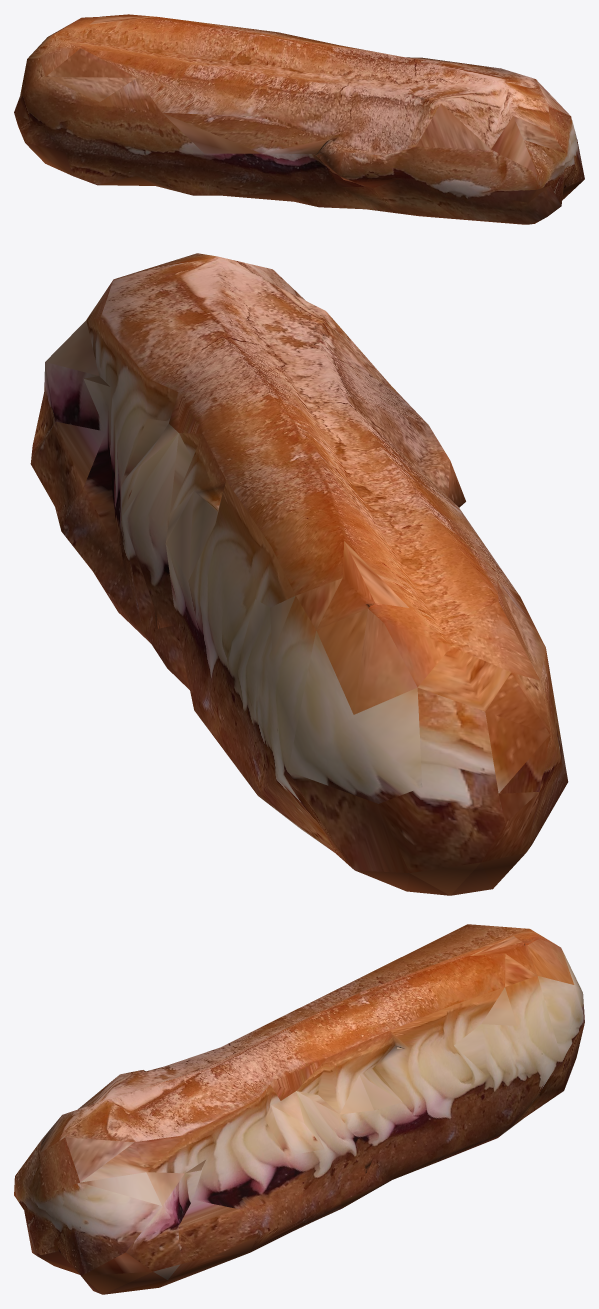
File: eclaire_420.obj
3 renders of one model, top to bottom at view 1: azimuth 30°, elevation 25°; view 2: azimuth 150°, elevation 25°; view 3: azimuth 270°, elevation 25°, orthographic. The views are drawn at different scales.
Bounding box in the file's own units: 94.06 × 31.68 × 91.11.
Materials: 1 (1 with a texture image).
